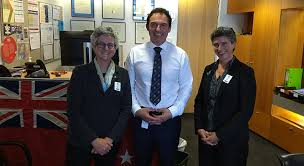F_W_suit jacket: (66, 62, 134, 150), (191, 56, 256, 138)
F_shirt: (126, 36, 193, 116)
F_tie: (146, 43, 164, 108)
